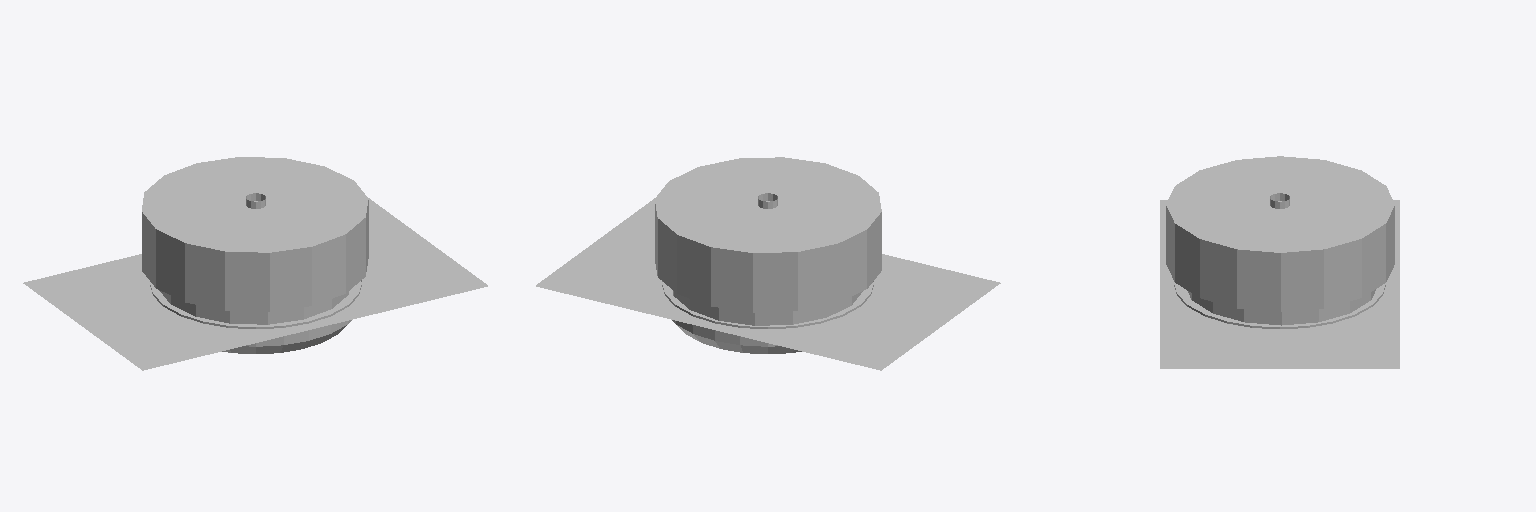
The model's file is Exhaust-LM.obj.
3 renders of one model, left to right at view 1: azimuth 30°, elevation 25°; view 2: azimuth 150°, elevation 25°; view 3: azimuth 270°, elevation 25°, orthographic.
Visible parts, largest first — view 1: SM_ExhaustFan_E; view 2: SM_ExhaustFan_E; view 3: SM_ExhaustFan_E.
Boxes of the visible parts, <box> form: SM_ExhaustFan_E: <box>23,157,487,370</box>; SM_ExhaustFan_E: <box>536,157,1000,370</box>; SM_ExhaustFan_E: <box>1160,156,1399,368</box>.
Size of the model in its own units: 157 by 50.86 by 94.49.